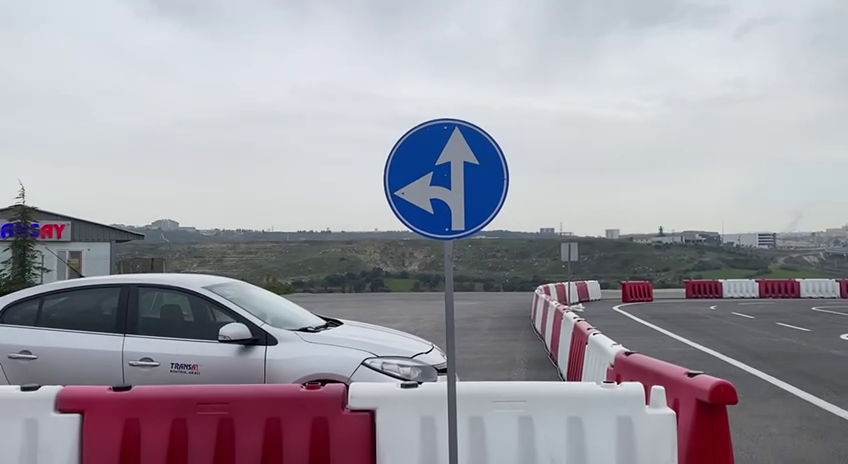forwardAndLeft: (382, 115, 511, 242)
